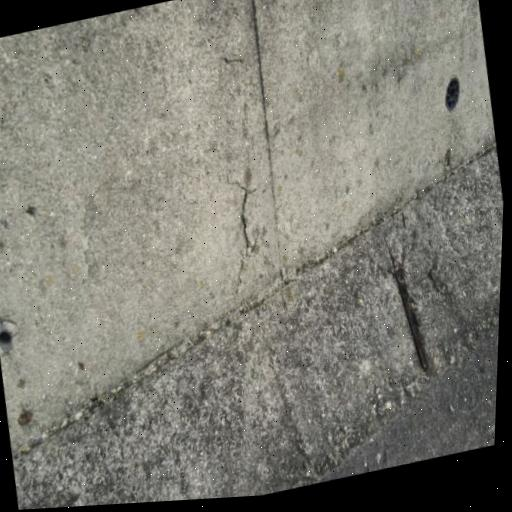exposed_rebar: (388, 246, 428, 368)
